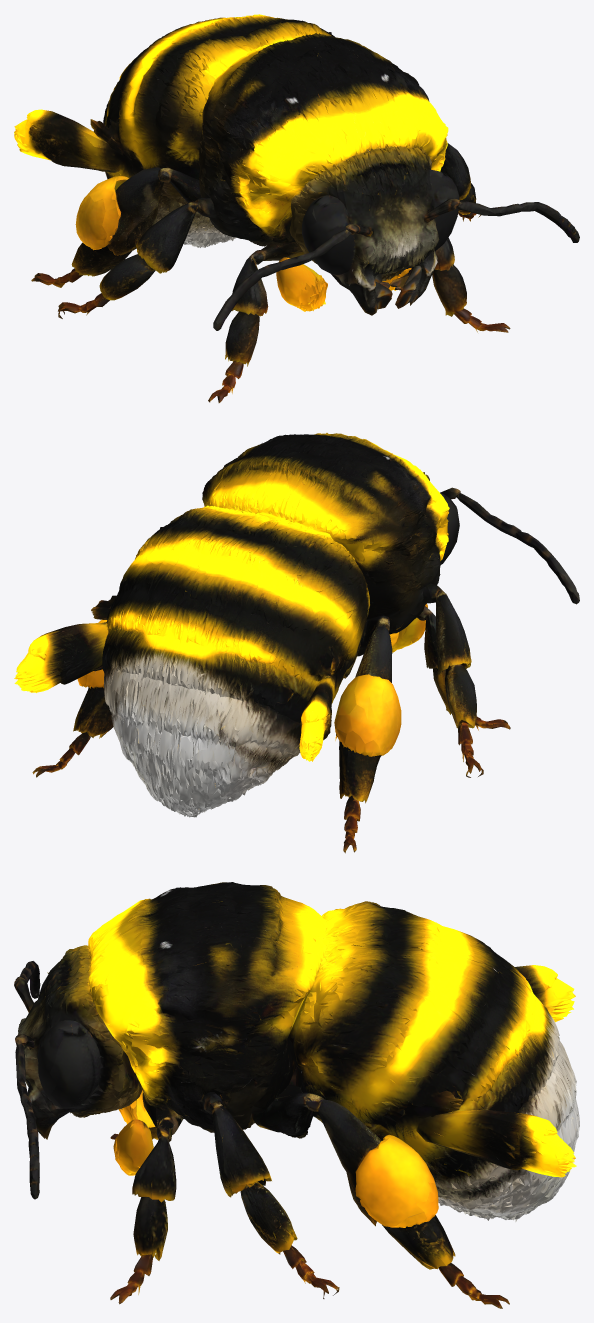
Rendered from bee.glb.
The picture shows the model from 3 angles, top to bottom: view 1: azimuth 30°, elevation 25°; view 2: azimuth 150°, elevation 25°; view 3: azimuth 270°, elevation 25°; orthographic projection. The views are drawn at different scales.
Parts seen in each view (by area): view 1: Mesh_0; view 2: Mesh_0; view 3: Mesh_0.
Boxes of the visible parts, <box> form: Mesh_0: <box>14,14,579,402</box>; Mesh_0: <box>14,433,579,853</box>; Mesh_0: <box>14,882,579,1308</box>.
Bounding box in the file's own units: 1.87 × 1.19 × 1.88.
Materials: 1 (1 with a texture image).
